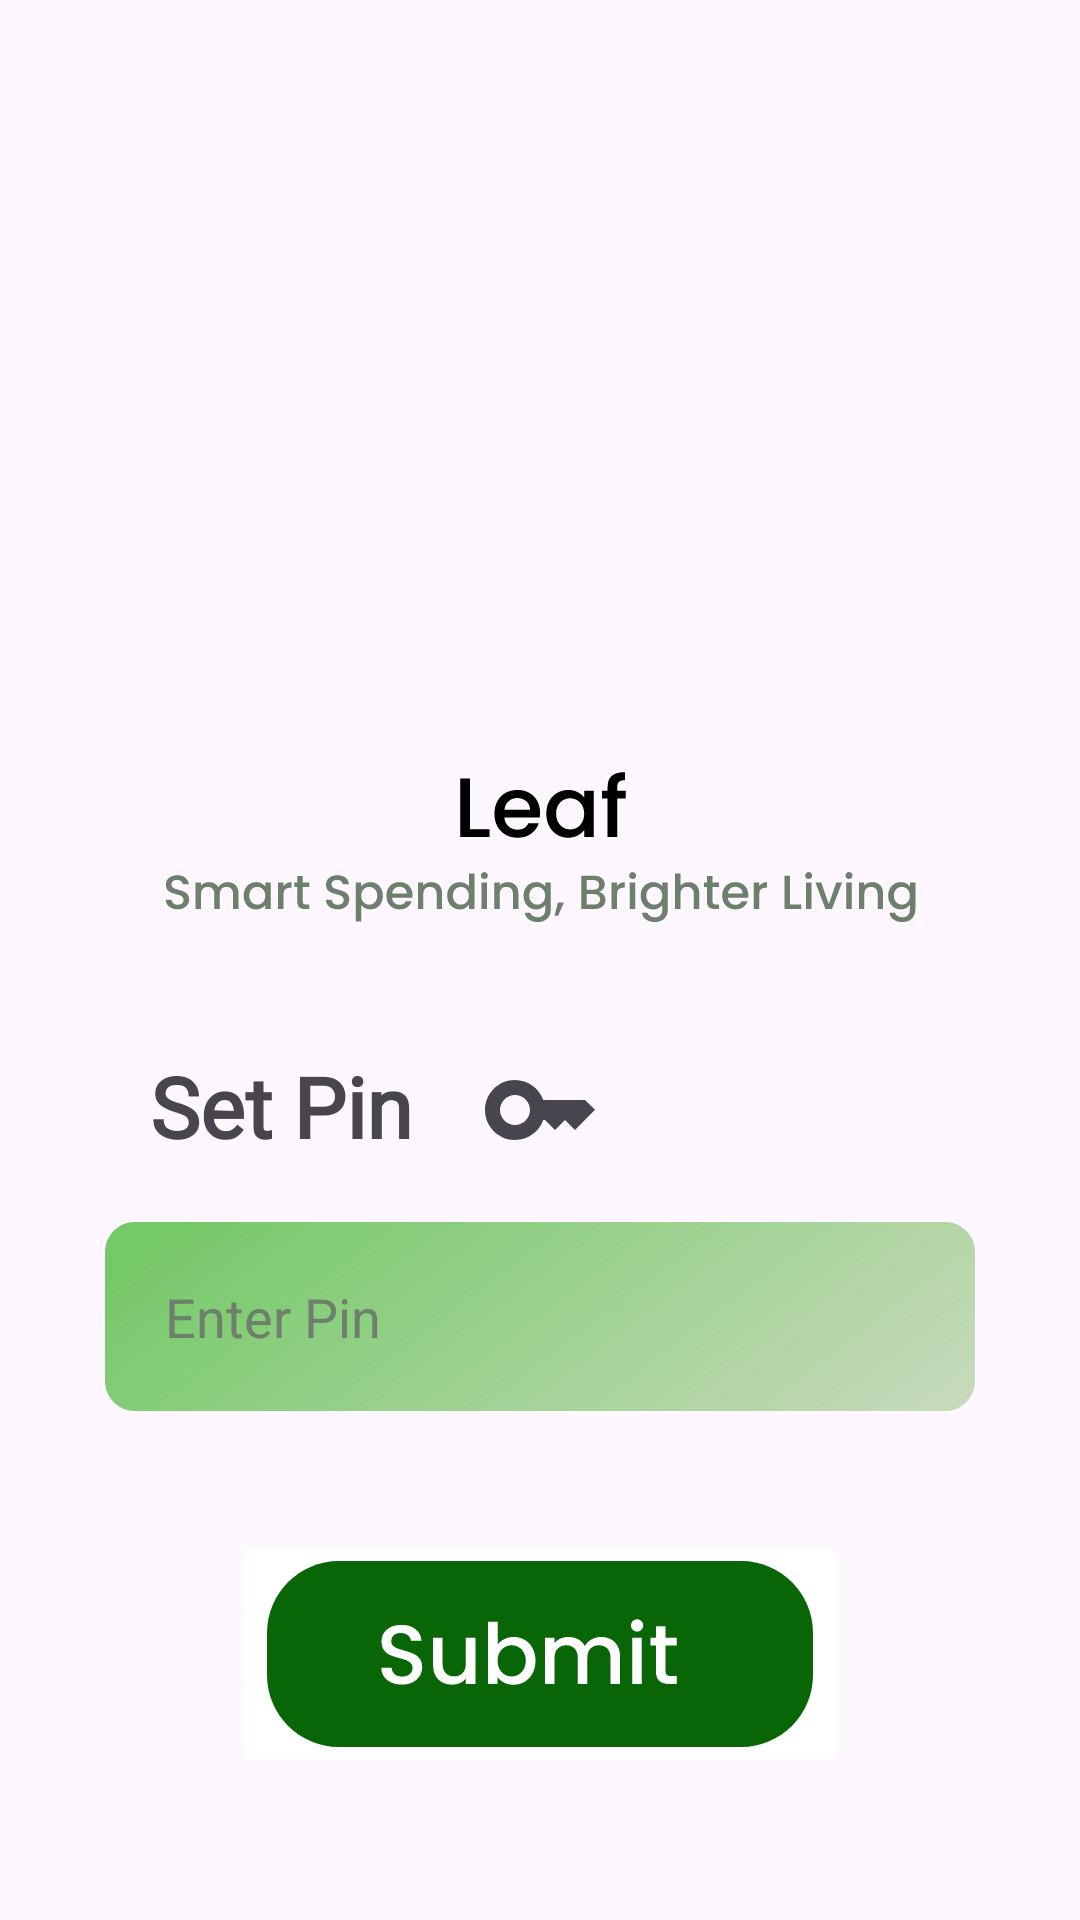

Where to tap for icons on this 1080 × 1920 app screen, as (x=x, y=y):
key: (x=540, y=1110)
